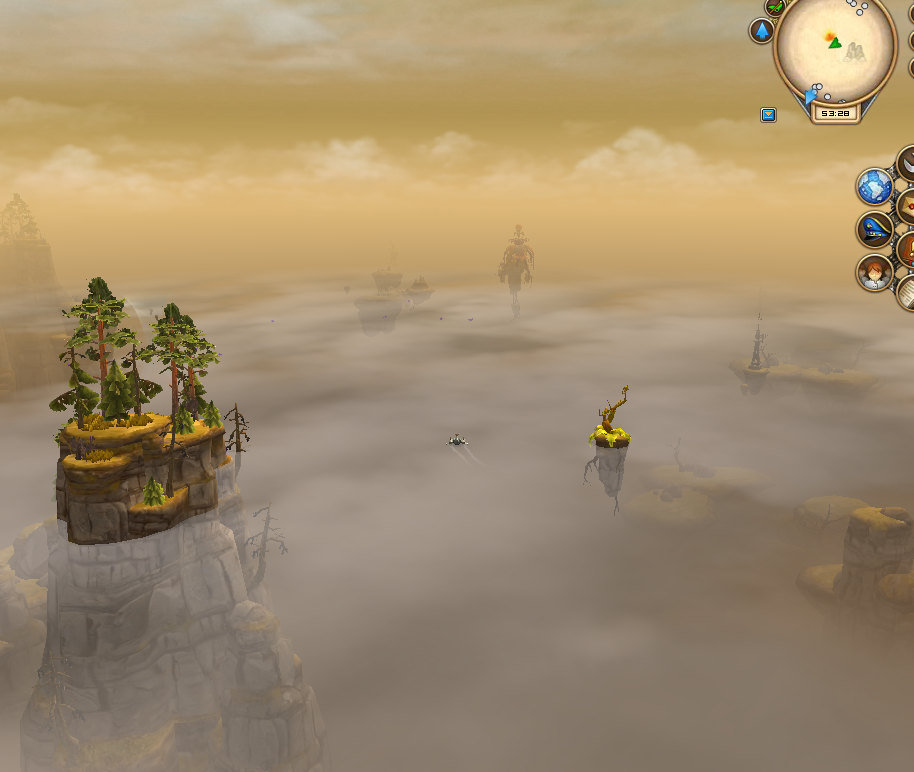dandelion-empty: (582, 379, 636, 491)
